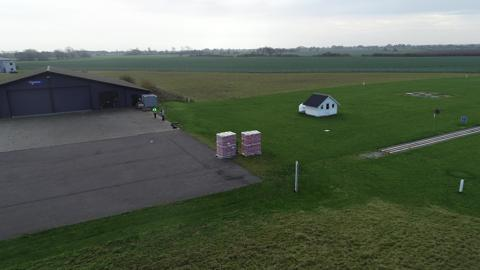RockwoolPallet: (241, 128, 262, 158)
